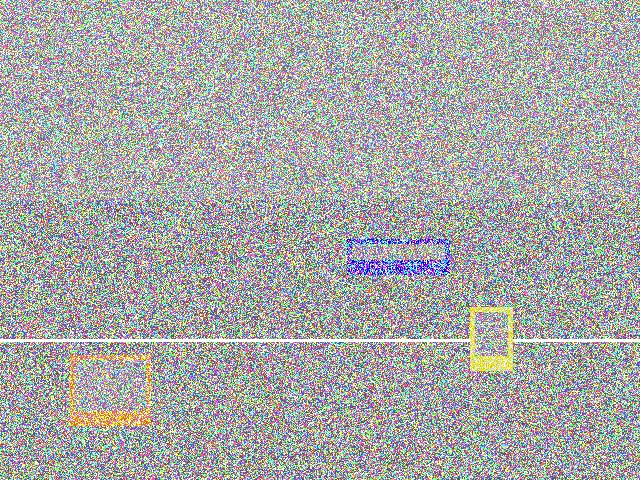car: (364, 116, 452, 242), (316, 217, 458, 289)
